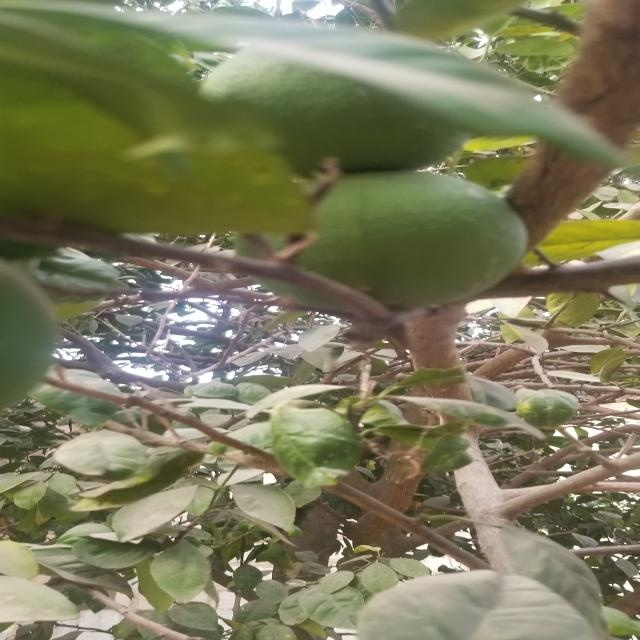agrume: (245, 163, 545, 325), (180, 35, 476, 176)
